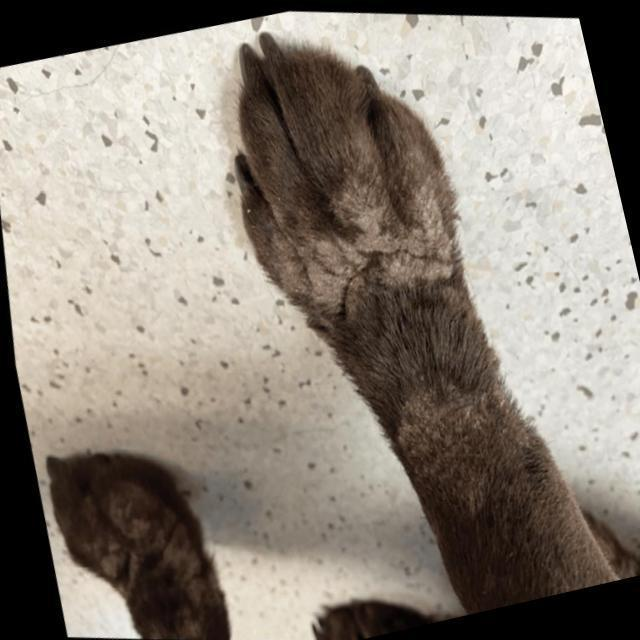mange: (247, 140, 503, 359)
